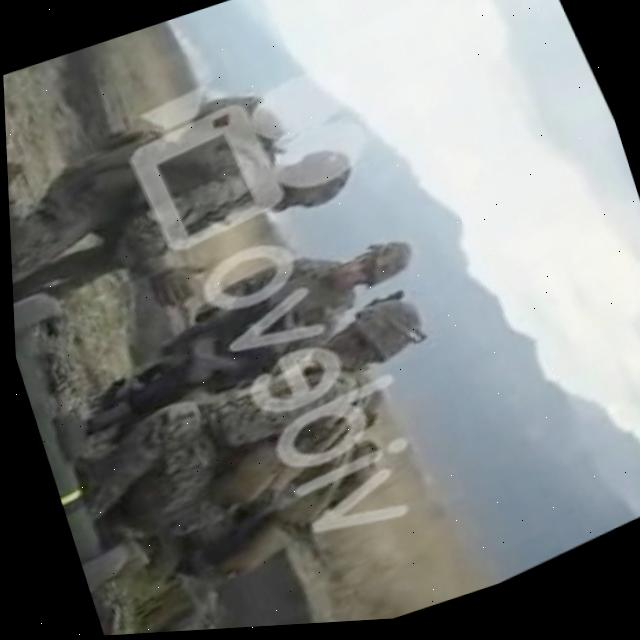rocket: (10, 273, 171, 595)
